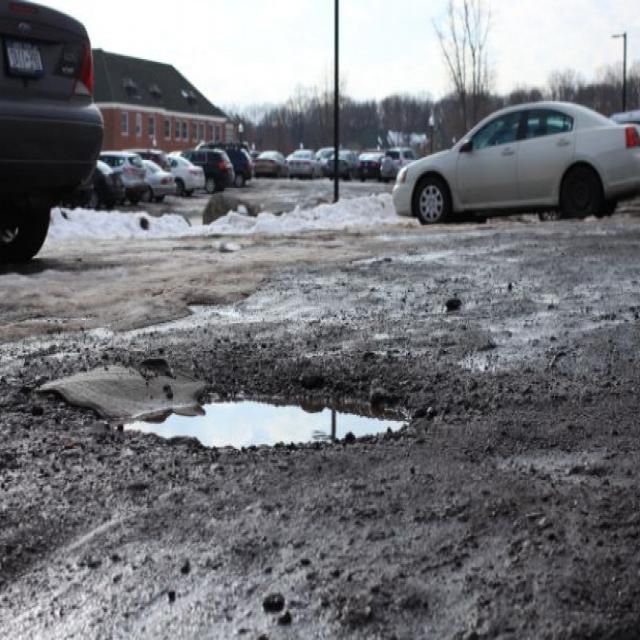Pothole: (120, 380, 424, 450)
